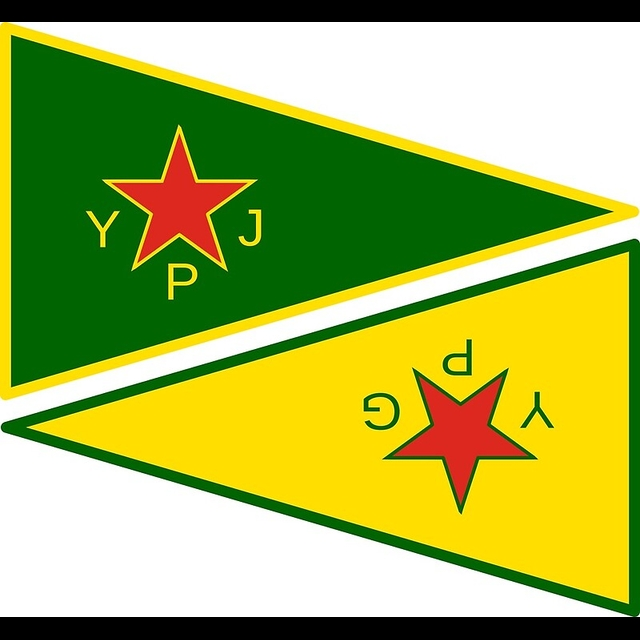YPG: (353, 333, 575, 522)
YPJ: (77, 118, 271, 308)
